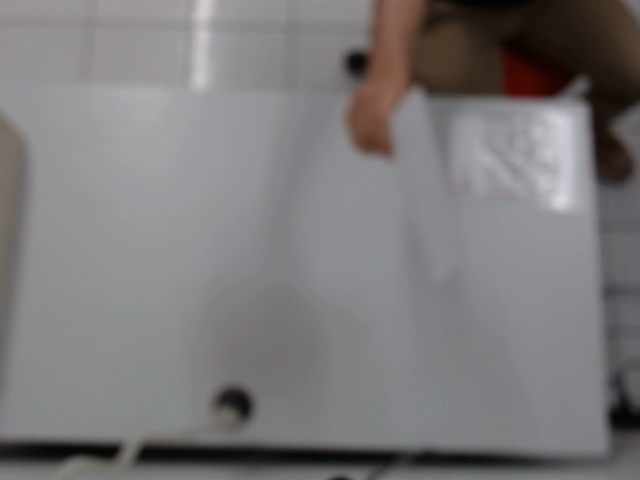divisor: (372, 79, 482, 286)
